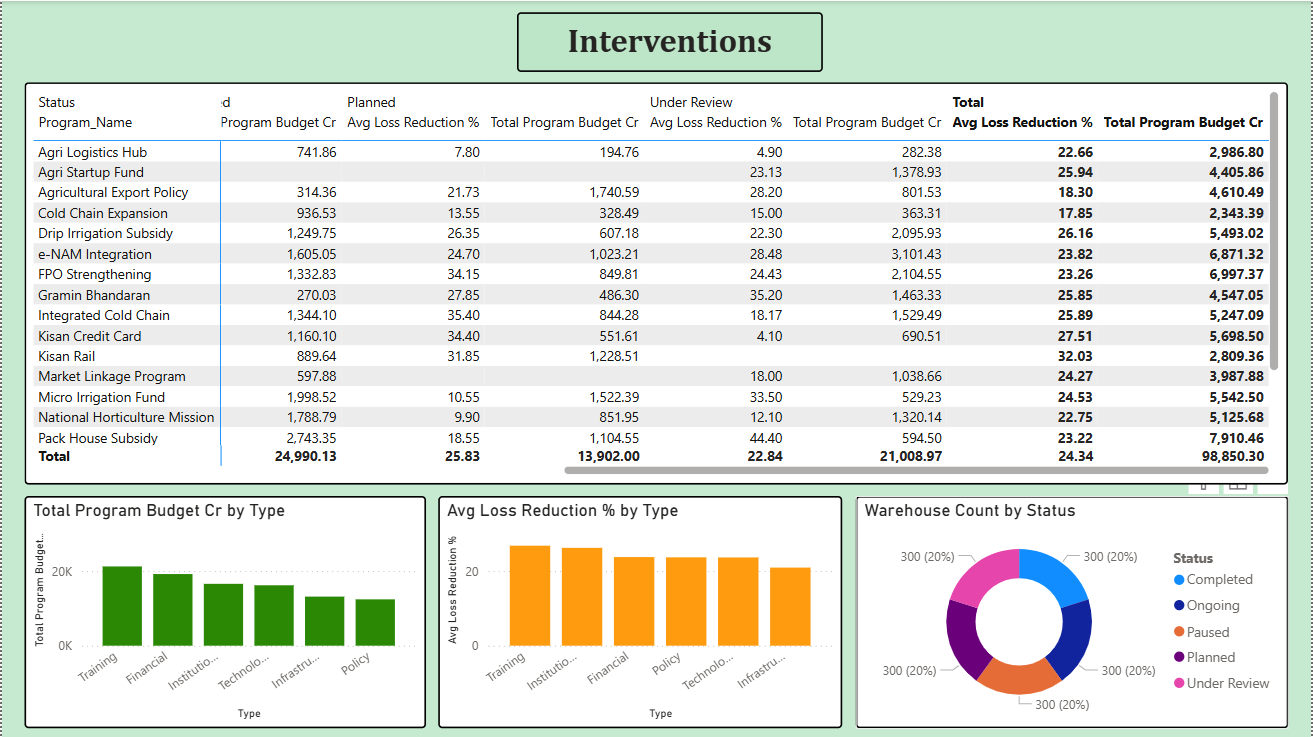

What the dashboard file says about the page in this screenshot:
{"tool":"powerbi","page":{"name":"Interventions","canvas":[1280,720],"ordinal":5},"visuals":[{"type":"donutChart","fields":{"Category":["Intervention_Programs.Status"],"Y":["Measures (2).Warehouse Count"]},"box":[835.2,484.2,423.1,227.4],"z":0},{"type":"columnChart","fields":{"Y":["Measures (2).Total Program Budget Cr"],"Category":["Intervention_Programs.Type"]},"box":[22,484.2,392.5,227.4],"z":1000},{"type":"columnChart","fields":{"Category":["Intervention_Programs.Type"],"Y":["Measures (2).Avg Loss Reduction %"]},"box":[426.8,484.2,395,227.4],"z":2000},{"type":"pivotTable","fields":{"Rows":["Intervention_Programs.Program_Name"],"Columns":["Intervention_Programs.Status"],"Values":["Measures (2).Avg Loss Reduction %","Measures (2).Total Program Budget Cr"]},"box":[22,79.5,1236.3,393.8],"z":3000},{"type":"textbox","box":[503.8,11,299.6,58.7],"z":4000}]}

Visuals, with their boxes in screenshot pixels (x1, y1, x2, y2), scaled from the page's 1280x720 canvas onto the 1313x737 screenshot:
donutChart - Intervention_Programs.Status x Measures (2).Warehouse Count: bbox(857, 496, 1291, 728)
columnChart - Measures (2).Total Program Budget Cr x Intervention_Programs.Type: bbox(23, 496, 425, 728)
columnChart - Intervention_Programs.Type x Measures (2).Avg Loss Reduction %: bbox(438, 496, 843, 728)
pivotTable - Intervention_Programs.Program_Name x Intervention_Programs.Status: bbox(23, 81, 1291, 484)
textbox: bbox(517, 11, 824, 71)
